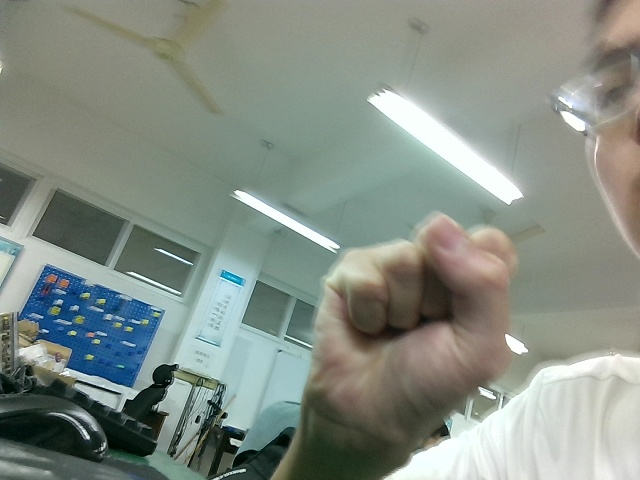stone: (301, 203, 526, 443)
